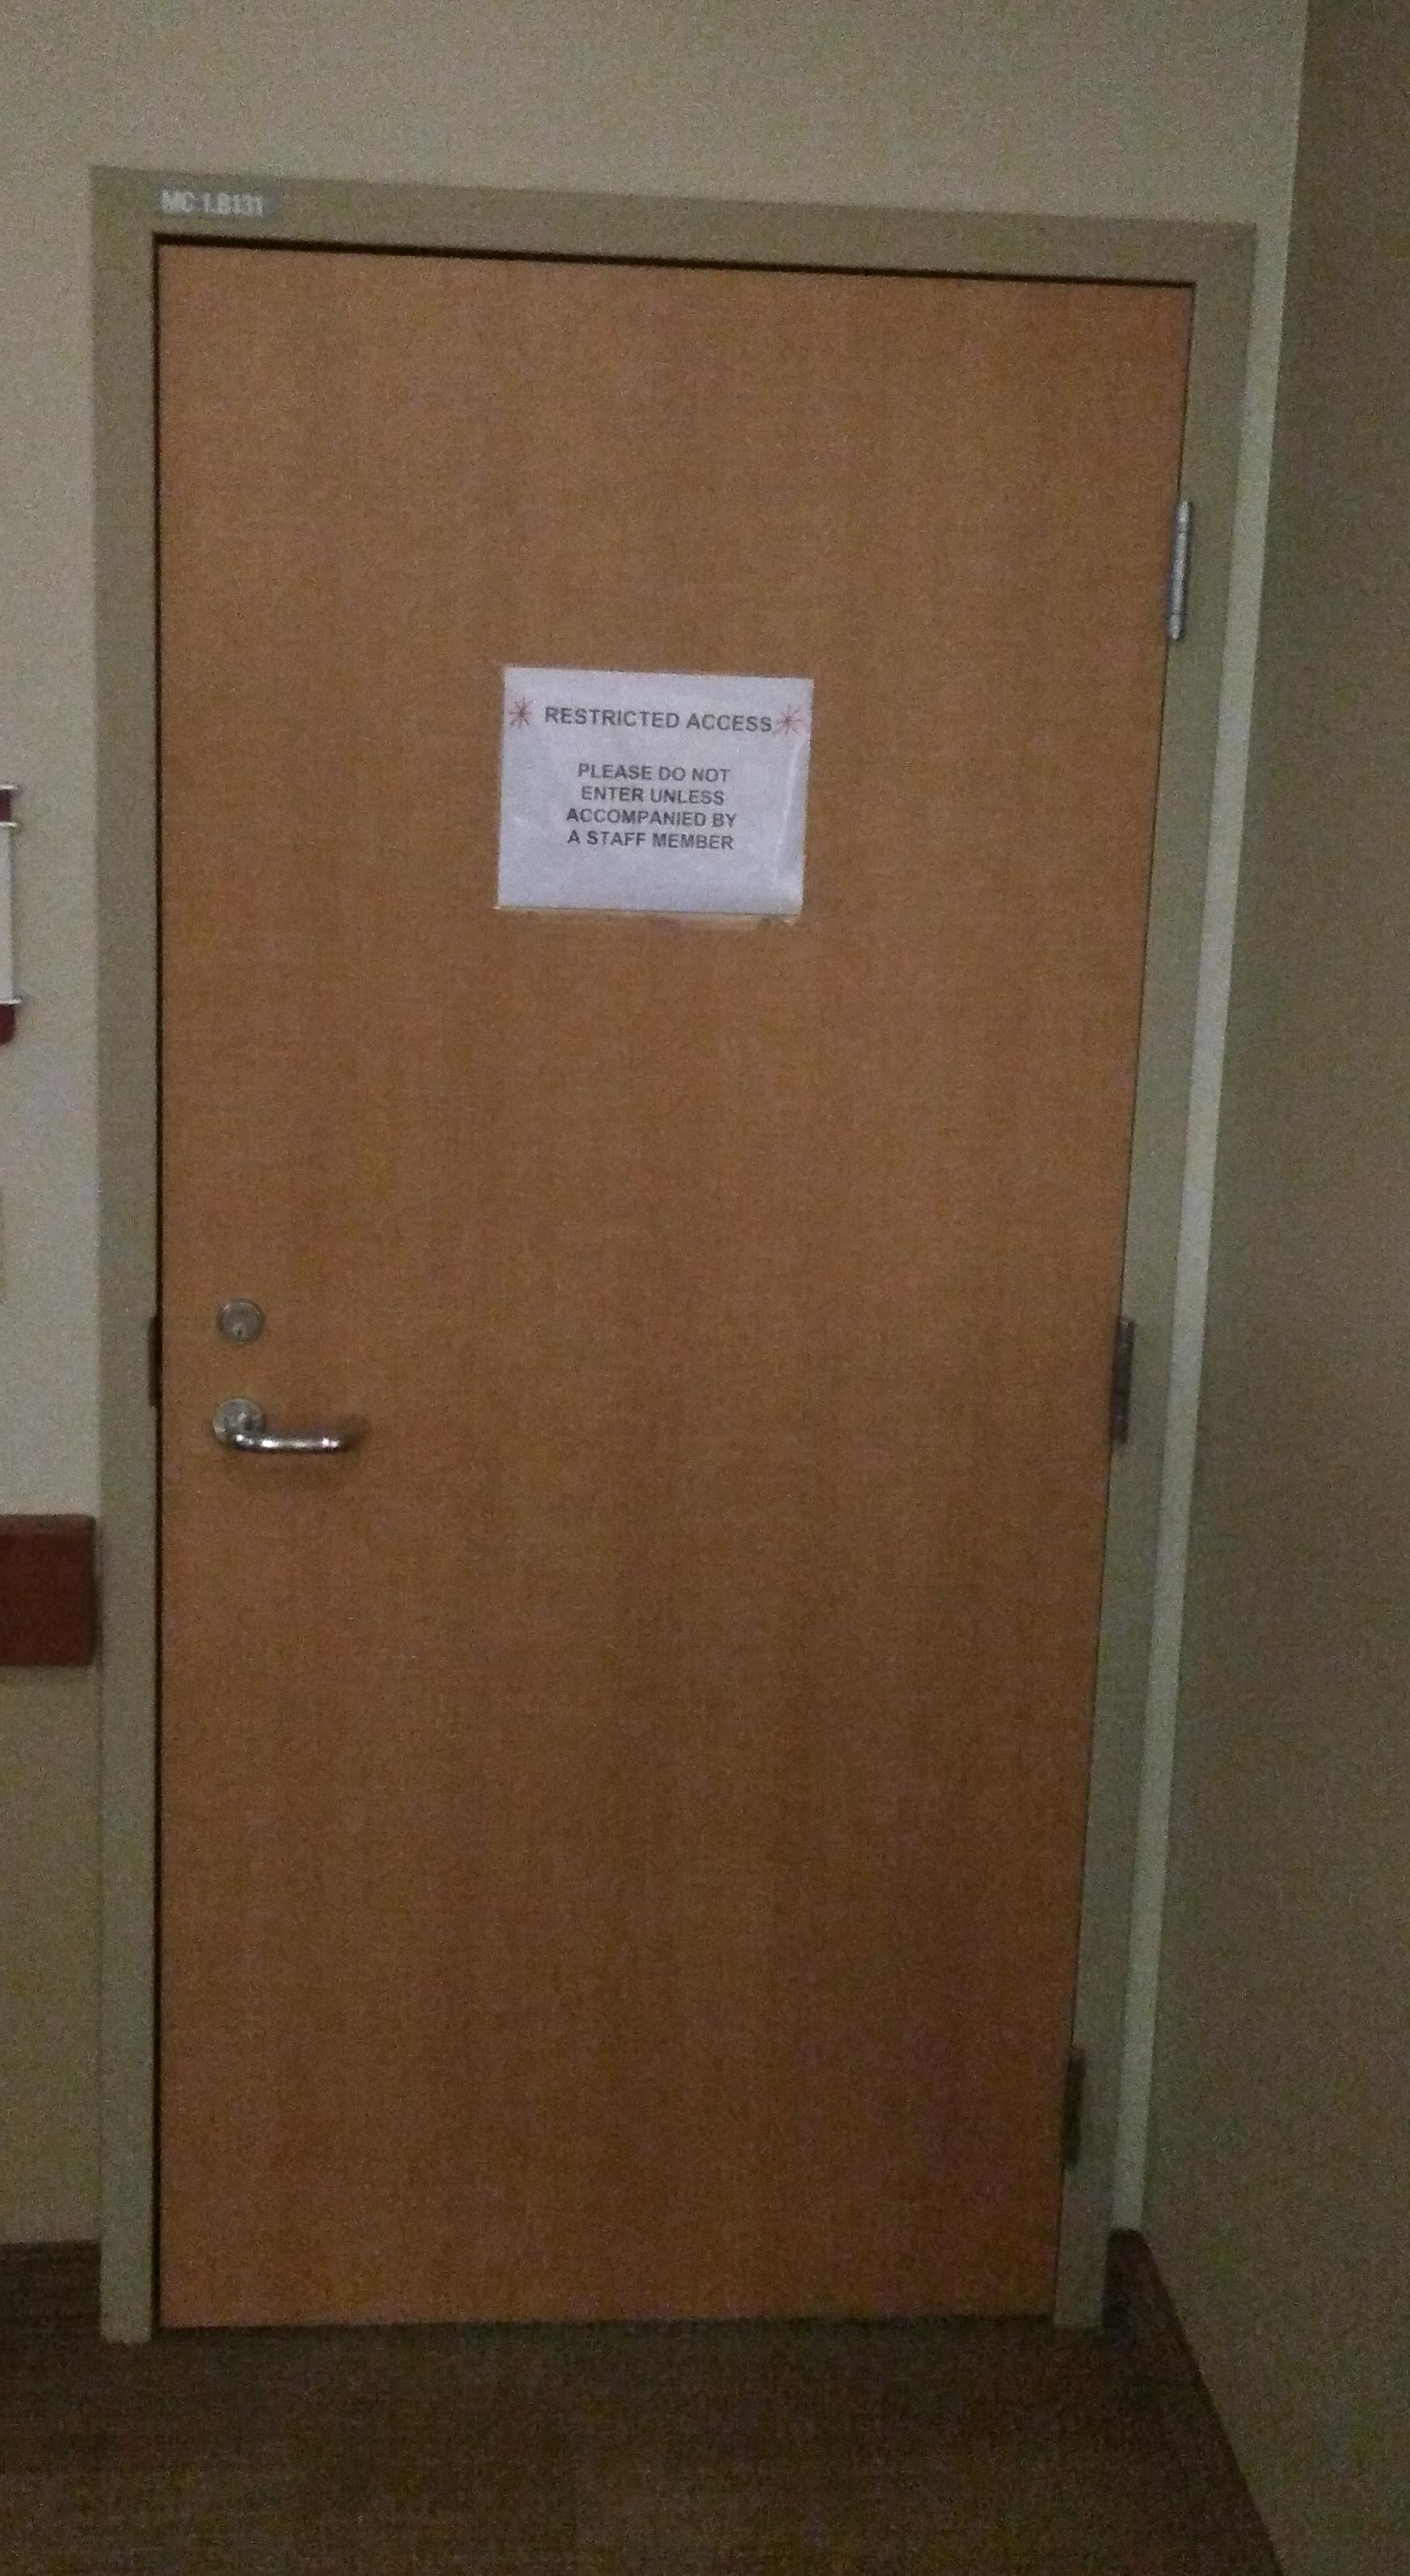door: (90, 168, 1169, 2368)
